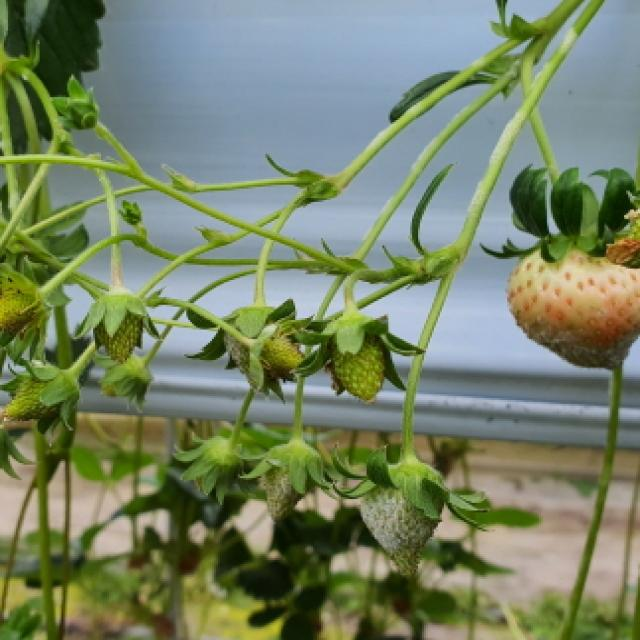Powdery Mildew Fruit: (359, 460, 450, 577), (263, 441, 324, 520)
